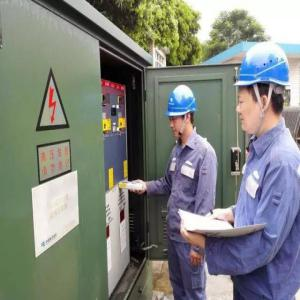blue: (232, 41, 294, 137), (164, 83, 199, 142)
